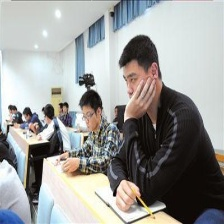no-helmet: (119, 35, 165, 80), (78, 88, 104, 116), (41, 104, 57, 121), (22, 107, 32, 120)
no-vest: (131, 95, 212, 205), (81, 123, 117, 176)
person: (115, 37, 222, 218), (74, 88, 116, 174), (40, 105, 68, 149)
